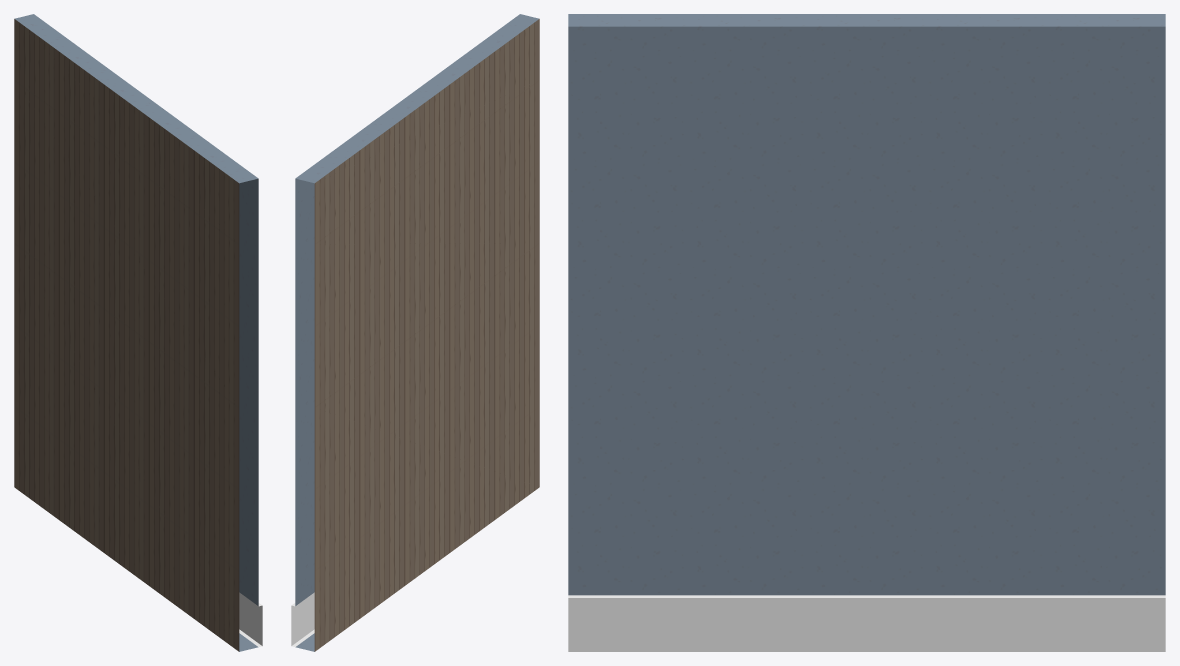
Rendered from Tile_House_Wall_01.obj.
The picture shows the model from 3 angles, left to right: view 1: azimuth 30°, elevation 25°; view 2: azimuth 150°, elevation 25°; view 3: azimuth 270°, elevation 25°; orthographic projection. The views are drawn at different scales.
Parts seen in each view (by area): view 1: Tile_House_Wall_01_mi_HouseExteriorWalls_01, Tile_House_Wall_01_mi_HouseInteriorWalls_02, Tile_House_Wall_01_mi_WhiteTrim; view 2: Tile_House_Wall_01_mi_HouseExteriorWalls_01, Tile_House_Wall_01_mi_HouseInteriorWalls_02, Tile_House_Wall_01_mi_WhiteTrim; view 3: Tile_House_Wall_01_mi_HouseInteriorWalls_02, Tile_House_Wall_01_mi_WhiteTrim.
Part boxes in pixels (box(x1,y1,x2,y2)): Tile_House_Wall_01_mi_HouseExteriorWalls_01: box(14, 19, 239, 651); Tile_House_Wall_01_mi_HouseInteriorWalls_02: box(15, 14, 258, 651); Tile_House_Wall_01_mi_WhiteTrim: box(239, 592, 262, 646); Tile_House_Wall_01_mi_HouseExteriorWalls_01: box(314, 19, 539, 651); Tile_House_Wall_01_mi_HouseInteriorWalls_02: box(295, 14, 538, 651); Tile_House_Wall_01_mi_WhiteTrim: box(291, 592, 314, 646); Tile_House_Wall_01_mi_HouseInteriorWalls_02: box(568, 14, 1165, 595); Tile_House_Wall_01_mi_WhiteTrim: box(568, 595, 1165, 651).
Bounding box in the file's own units: 0.3 × 5.75 × 5.
Materials: 3 (2 with a texture image).
